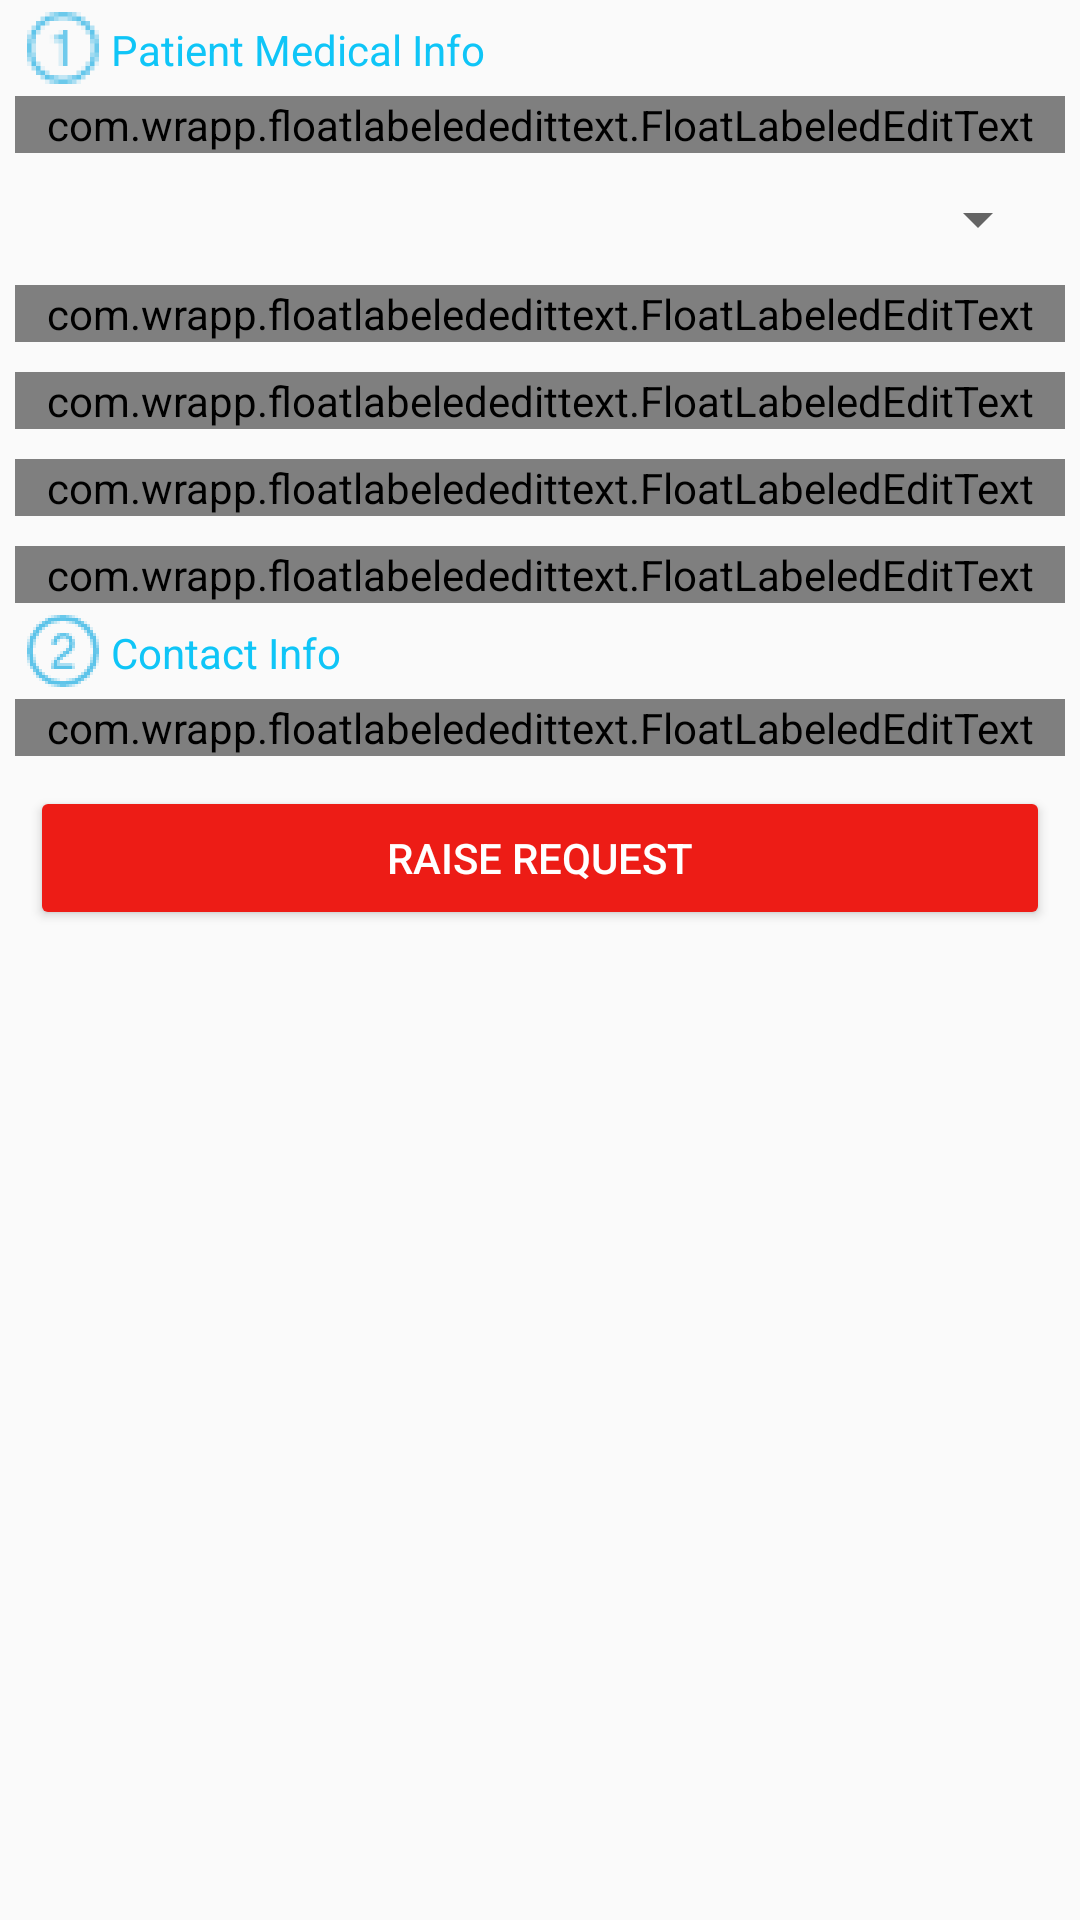

Where to tap for icons on this 1080*1920 app screen, as (x,y):
number one: (63,48)
number two: (63,651)
